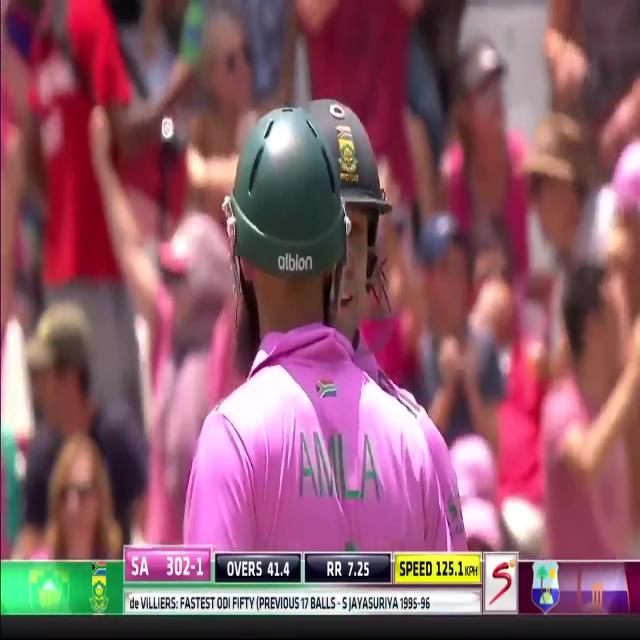Ball: (181, 110, 456, 555)
